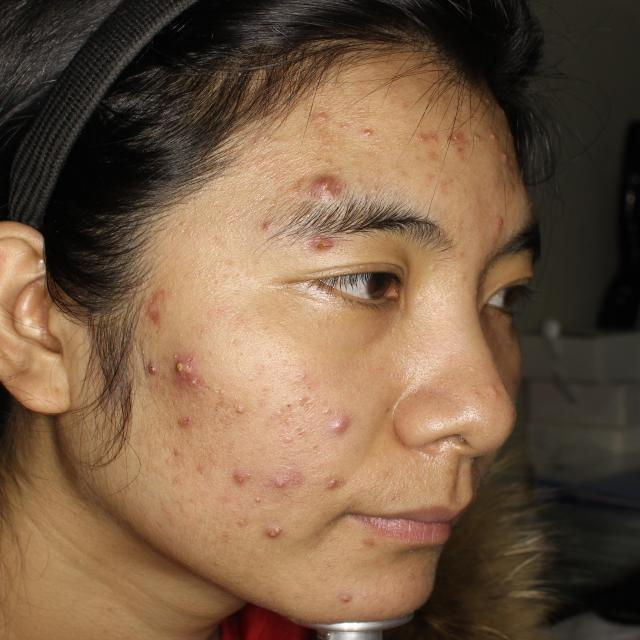Acne: (417, 126, 519, 166), (144, 356, 212, 392), (229, 515, 286, 554), (152, 445, 185, 488), (483, 207, 514, 250), (478, 373, 514, 410), (309, 164, 342, 202), (427, 178, 465, 210), (351, 534, 382, 564), (229, 460, 253, 496), (144, 288, 168, 323), (327, 409, 357, 437), (337, 578, 361, 613), (229, 394, 254, 422), (361, 122, 390, 146), (165, 409, 194, 432), (326, 467, 350, 494), (305, 109, 328, 134), (270, 470, 296, 492), (259, 208, 277, 228), (315, 240, 339, 254)
